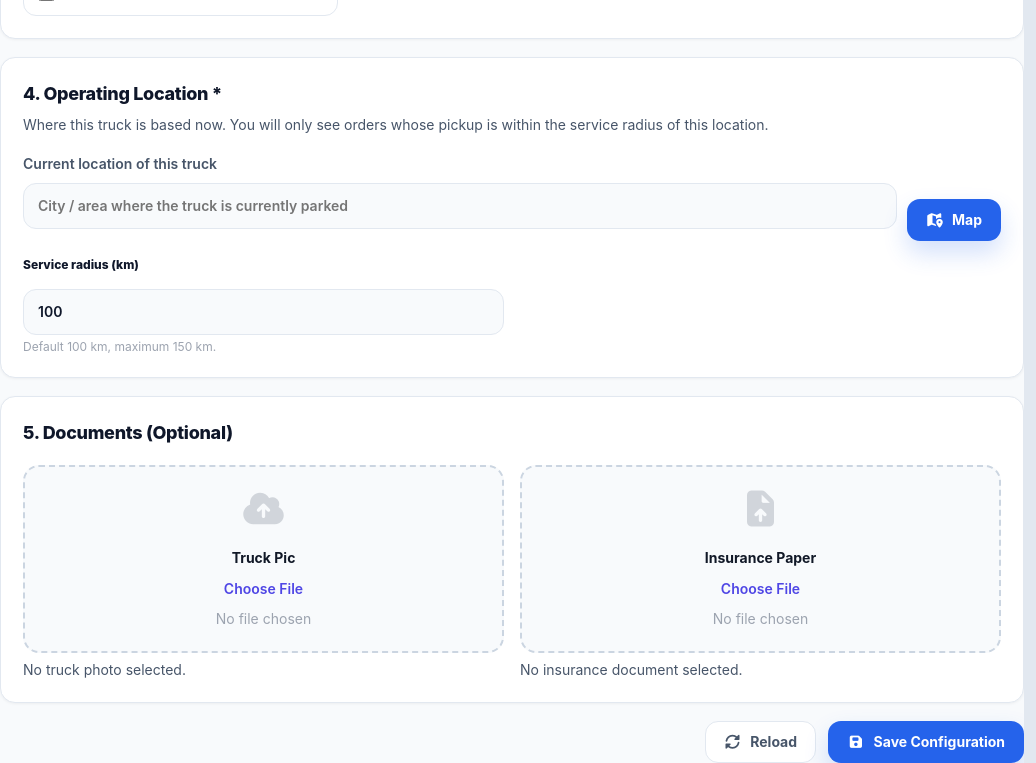
Test: LEDGER-009: TruckConfiguration renders standard Notification and dismisses on close
(page scrolled)
// Click save with empty required fields to trigger validation toast
Click the button "Save Configuration".
click(926, 742)  # box [828,721,1024,762]
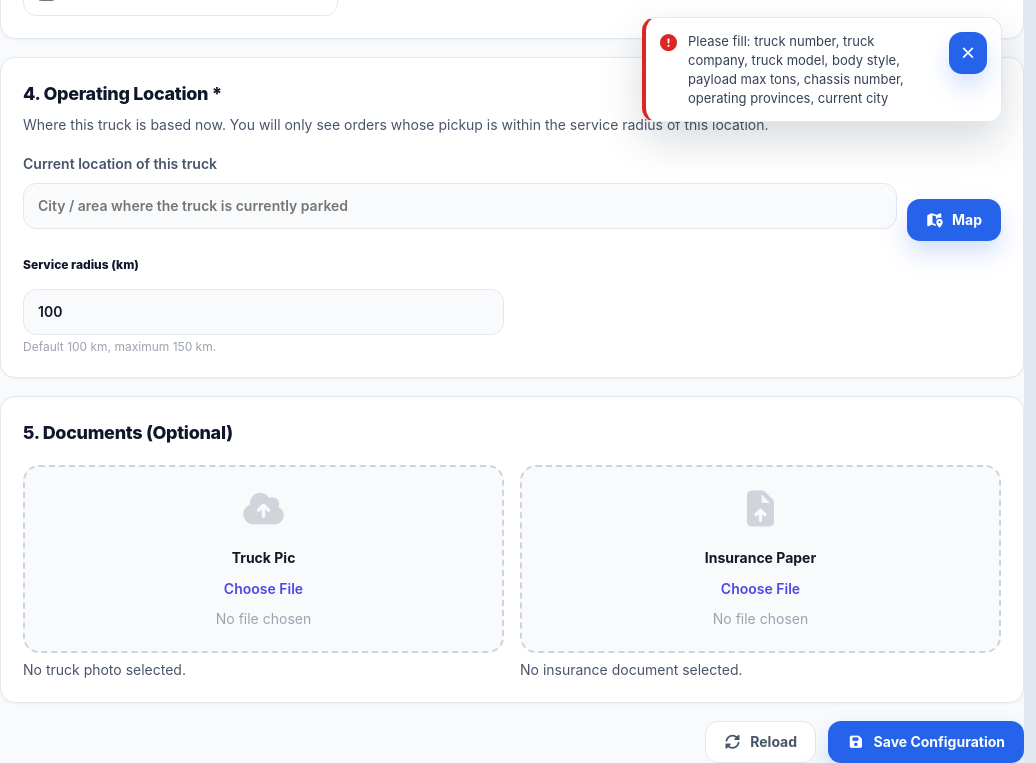
Expected: the message is shown, [642,17,1002,122]
Expected: the message shows "Please fill:", [688,33,904,106]
// Click close button on notification
Click the button named "Close notification".
click(968, 53)  # box [949,32,987,74]
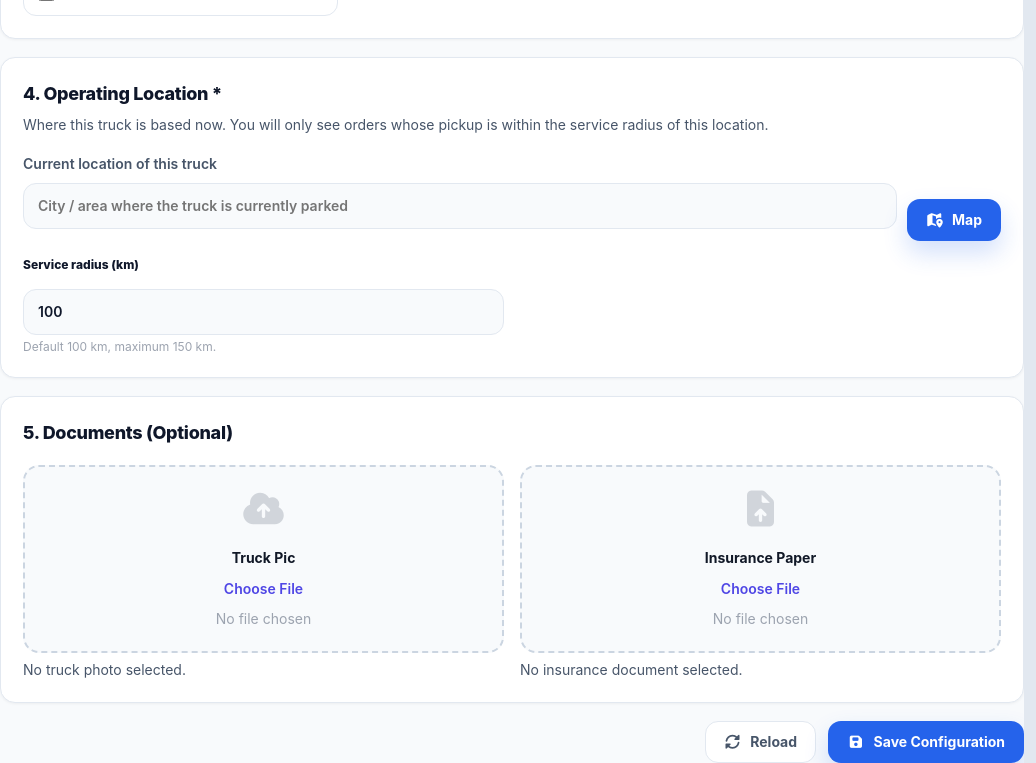
Expected: the message is gone
